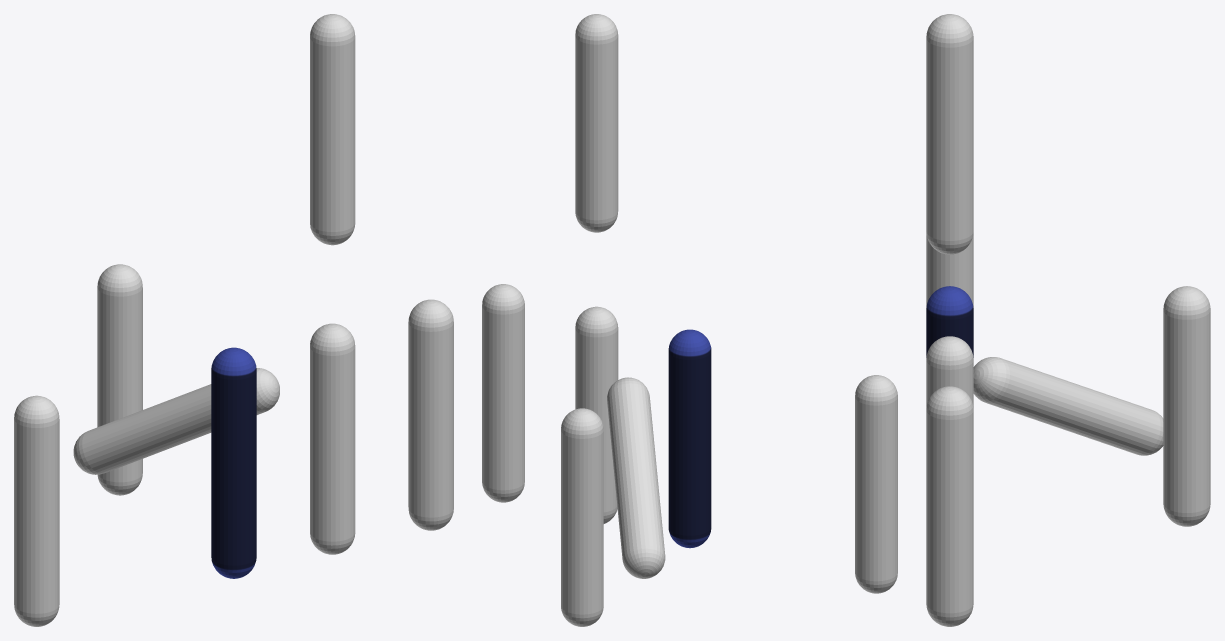
File: Post.gltf
3 views of the same model, side by side, from view 1: azimuth 30°, elevation 25°; view 2: azimuth 150°, elevation 25°; view 3: azimuth 270°, elevation 25° (orthographic). The views are drawn at different scales.
Parts seen in each view (by area): view 1: 球.004, 球.005, 球.003, 球.006, 球.001, 球, 球.002; view 2: 球.005, 球.001, 球.006, 球.004, 球, 球.002, 球.003; view 3: 球.001, 球.004, 球, 球.002, 球.005, 球.003, 球.006.
Part boxes in pixels (bbox=[...]): 球.004: bbox=[408, 299, 453, 530]; 球.005: bbox=[211, 347, 256, 578]; 球.003: bbox=[310, 323, 355, 554]; 球.006: bbox=[14, 395, 59, 626]; 球.001: bbox=[310, 14, 355, 245]; 球: bbox=[97, 264, 142, 495]; 球.002: bbox=[73, 368, 279, 474]; 球.005: bbox=[668, 329, 711, 548]; 球.001: bbox=[575, 14, 618, 232]; 球.006: bbox=[855, 375, 897, 593]; 球.004: bbox=[482, 284, 524, 502]; 球: bbox=[561, 408, 603, 626]; 球.002: bbox=[607, 377, 665, 578]; 球.003: bbox=[575, 306, 618, 523]; 球.001: bbox=[926, 14, 973, 254]; 球.004: bbox=[926, 386, 973, 626]; 球: bbox=[1163, 286, 1210, 526]; 球.002: bbox=[973, 357, 1163, 455]; 球.005: bbox=[926, 286, 973, 357]; 球.003: bbox=[926, 336, 973, 407]; 球.006: bbox=[926, 233, 973, 307].
Size of the model in its own units: 22 by 26 by 12.
Materials: 1 (1 with a texture image).
